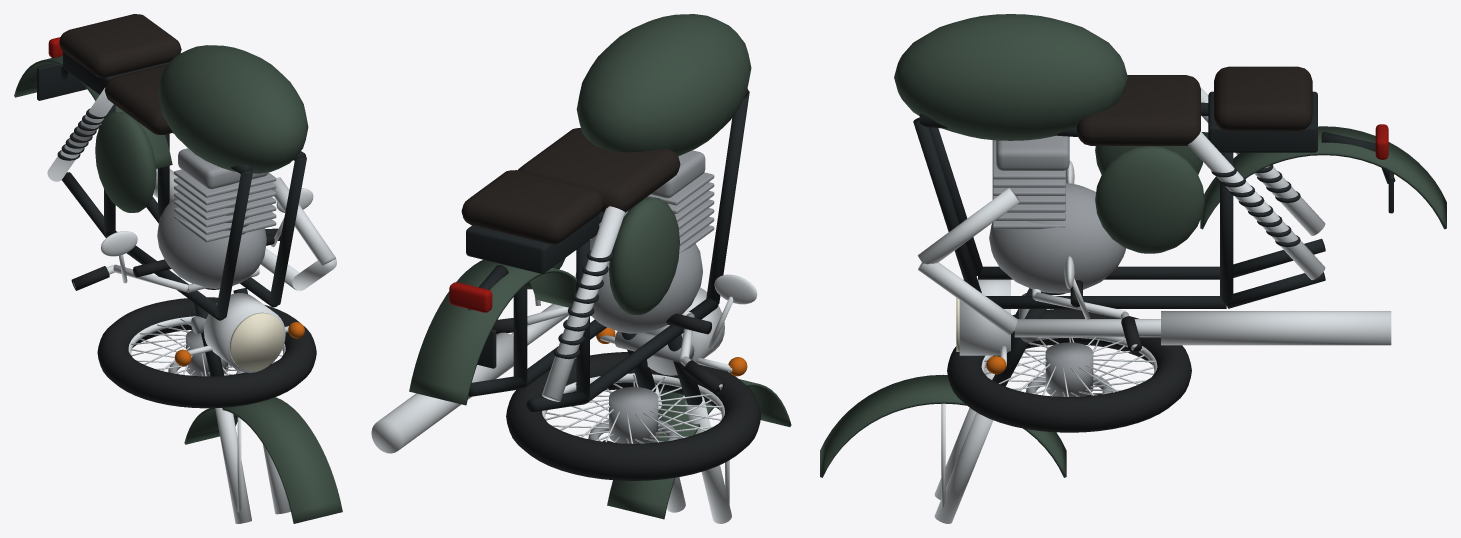
The model's file is bullet_rig.glb.
3 views of the same model, side by side, from view 1: azimuth 30°, elevation 25°; view 2: azimuth 150°, elevation 25°; view 3: azimuth 270°, elevation 25° (orthographic). The views are drawn at different scales.
Parts seen in each view (by area): view 1: BikeBody, Handlebars, FrontWheelMesh, RearWheelMesh; view 2: BikeBody, FrontWheelMesh, Handlebars, RearWheelMesh; view 3: BikeBody, FrontWheelMesh, Handlebars, RearWheelMesh.
Boxes of the visible parts, x1,y1,x2,y2 form: BikeBody: [14, 14, 336, 320]; Handlebars: [71, 188, 342, 523]; FrontWheelMesh: [97, 297, 316, 408]; RearWheelMesh: [110, 298, 312, 407]; BikeBody: [371, 14, 751, 453]; FrontWheelMesh: [506, 352, 760, 480]; Handlebars: [492, 274, 791, 523]; RearWheelMesh: [511, 352, 750, 480]; BikeBody: [894, 14, 1446, 345]; FrontWheelMesh: [948, 309, 1191, 432]; Handlebars: [820, 160, 1141, 523]; RearWheelMesh: [947, 339, 1187, 418].
Size of the model in its own units: 0.75 by 1.48 by 1.71.
